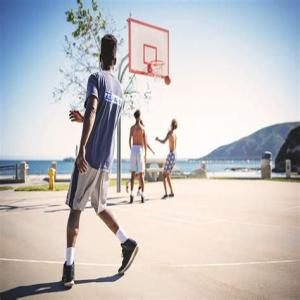Basket: (164, 74, 171, 86)
